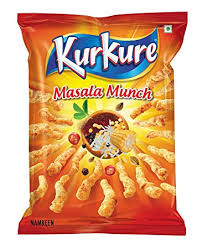kurkure: (50, 30, 160, 76)
plastic: (22, 13, 181, 233)
